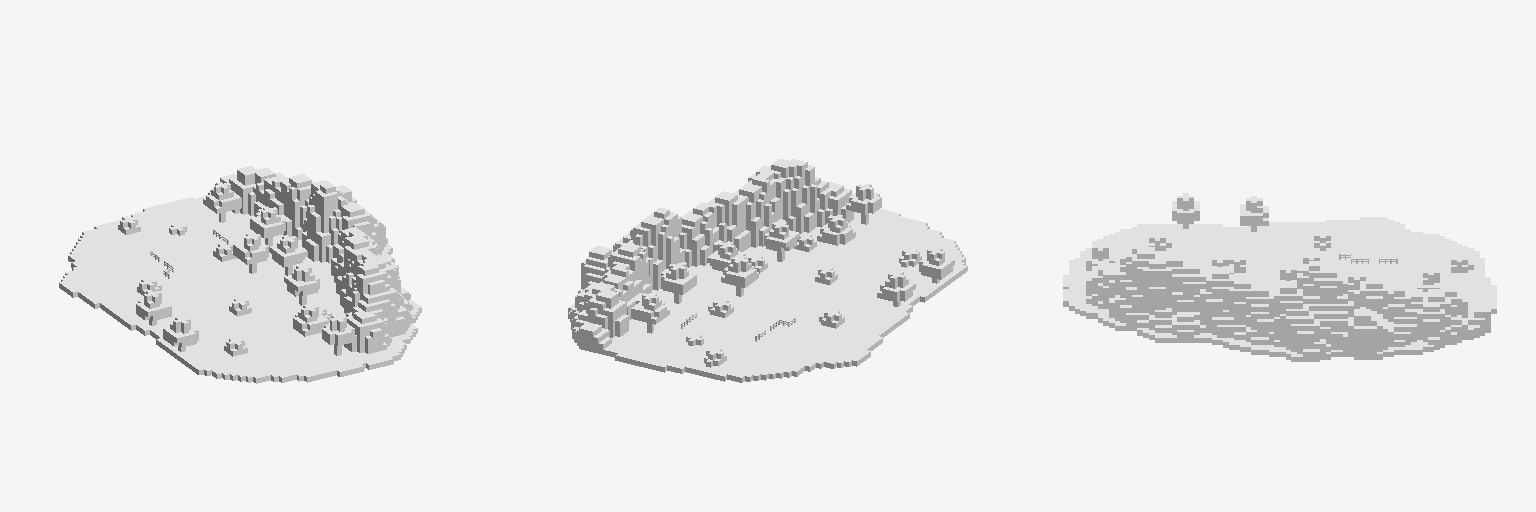
The model's file is map.obj.
The picture shows the model from 3 angles: view 1: azimuth 30°, elevation 25°; view 2: azimuth 150°, elevation 25°; view 3: azimuth 270°, elevation 25°; orthographic projection.
Parts seen in each view (by area): view 1: world__-28_-61_-16_to_40_319_63; view 2: world__-28_-61_-16_to_40_319_63; view 3: world__-28_-61_-16_to_40_319_63.
Boxes of the visible parts, x1,y1,x2,y2 form: world__-28_-61_-16_to_40_319_63: [59, 166, 421, 383]; world__-28_-61_-16_to_40_319_63: [568, 159, 967, 382]; world__-28_-61_-16_to_40_319_63: [1063, 193, 1496, 361].
Bounding box in the file's own units: 58 × 14 × 76.